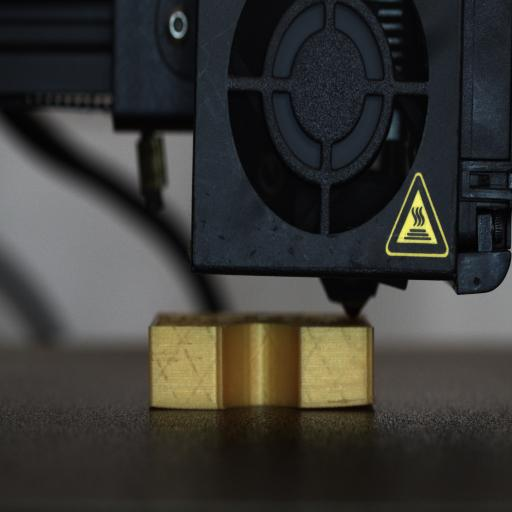warp: (324, 388, 376, 414)
